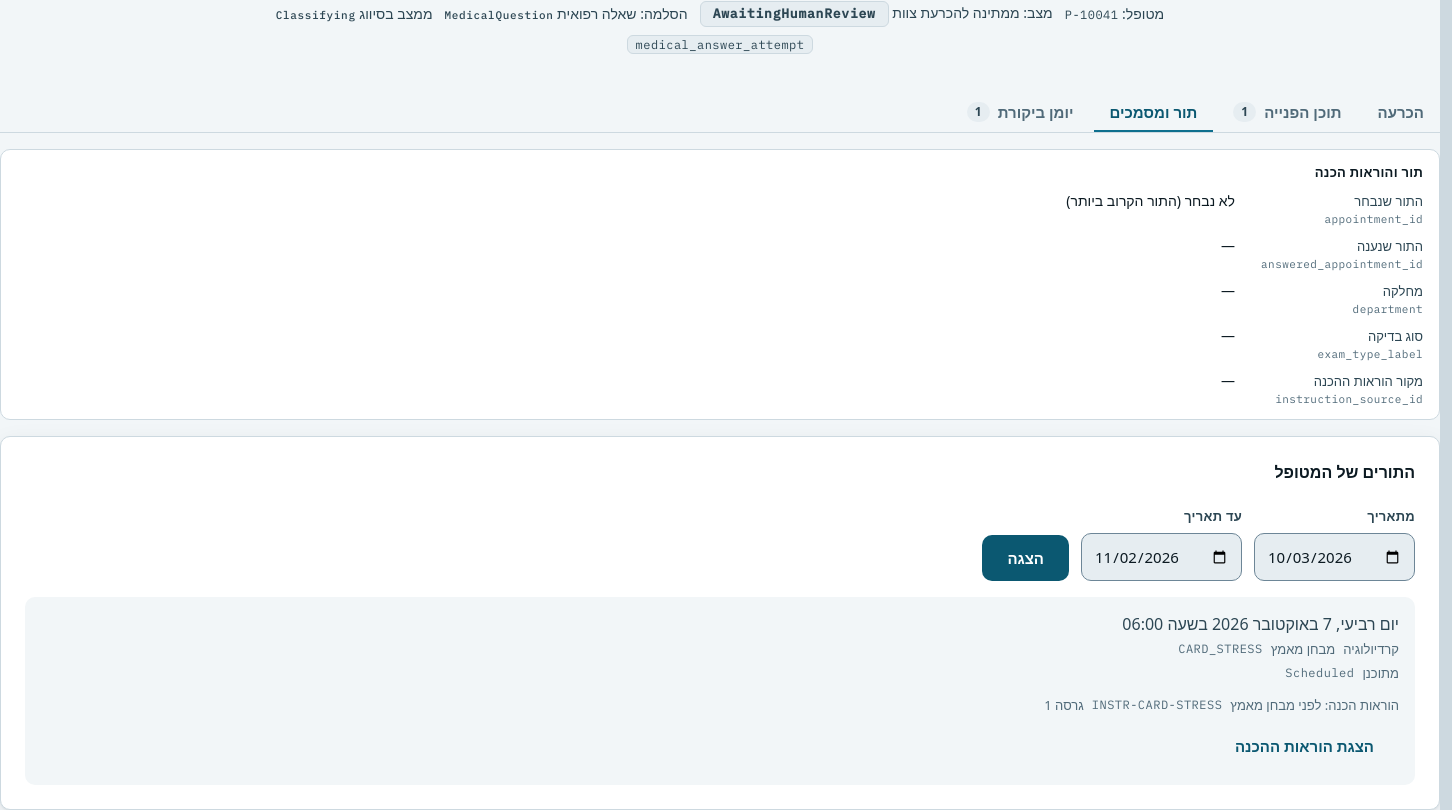
Test: ReviewCase › reads the preparation text through the staff route (sub-project 18, D12)
The width and height of the screenshot is (1452, 810).
(page scrolled)
Click the button "הצגת הוראות ההכנה" at (1304, 746), box [1210,723,1399,769]
(page scrolled)
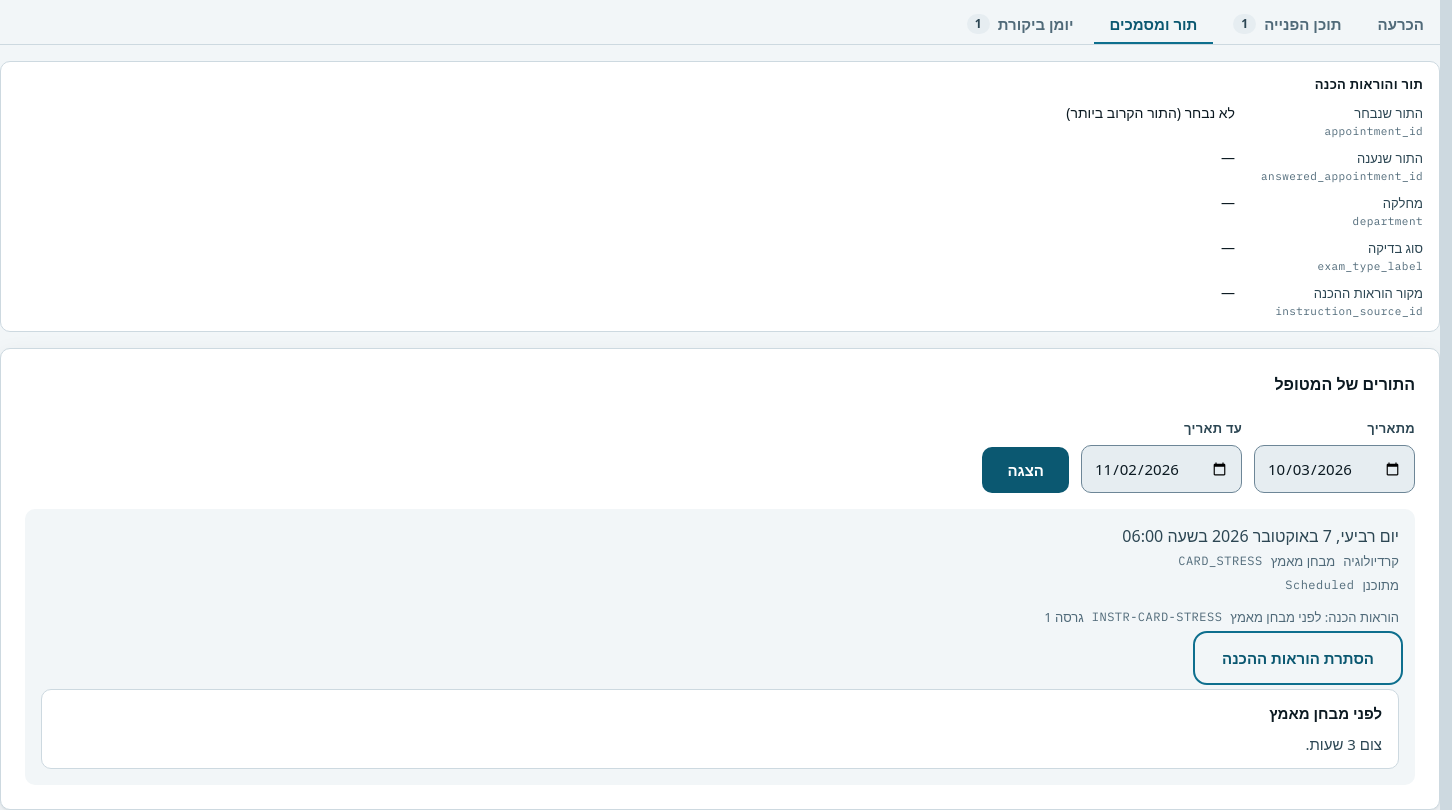
Expected: the text "צום 3 שעות." is shown, [1305,734,1382,754]
